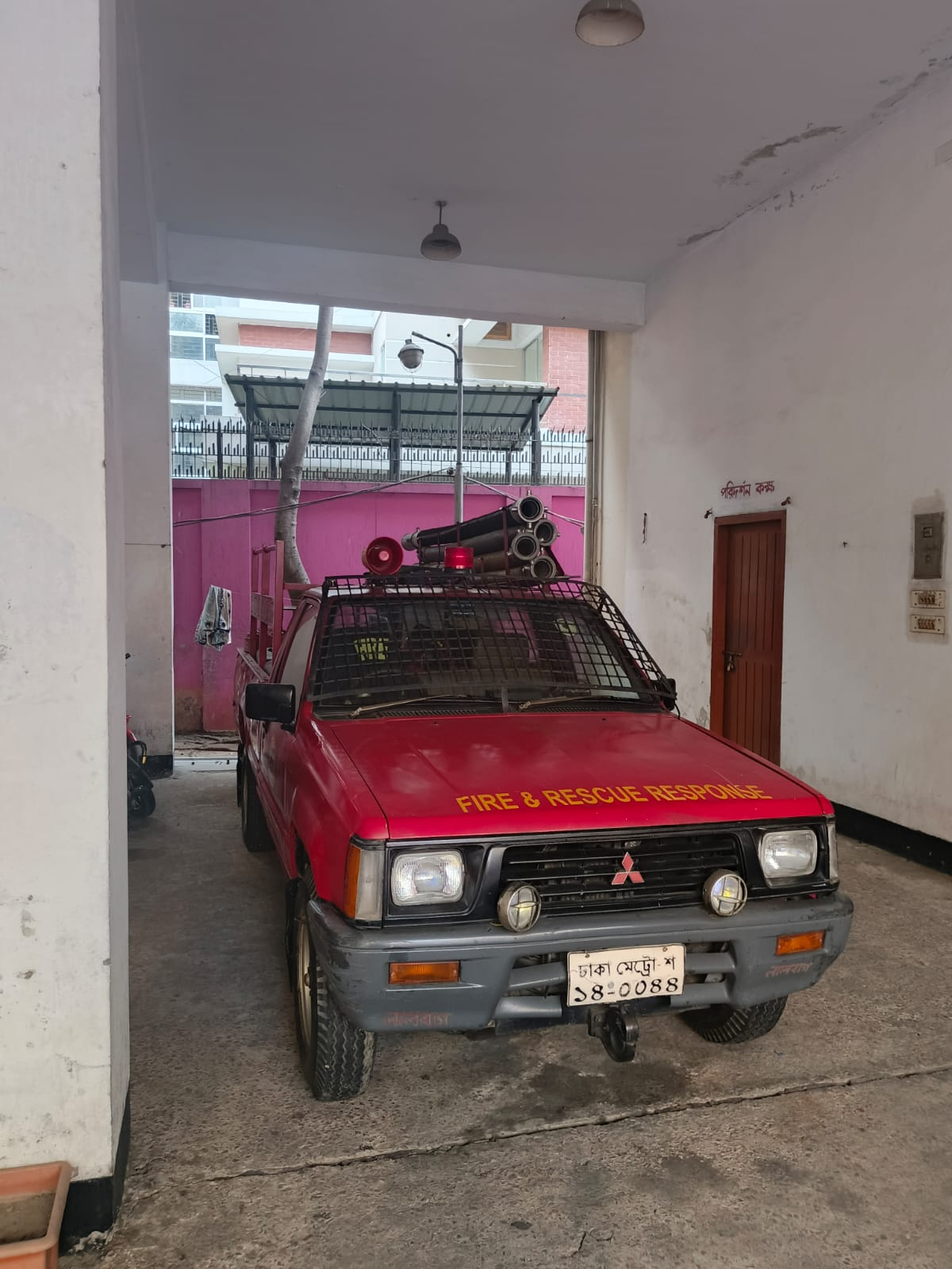Fire truck: (222, 477, 870, 1113)
